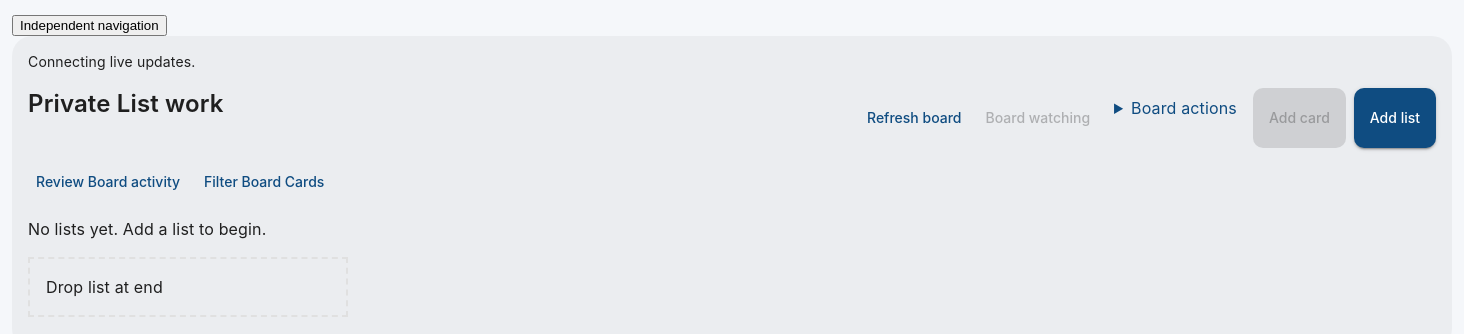
Test: PRD-07-VS-05 List creation identity › preserves independent navigation focus when pending List admission is refused
Click the button "Add list" at (1395, 118), box left=1354, top=88, right=1436, bottom=148
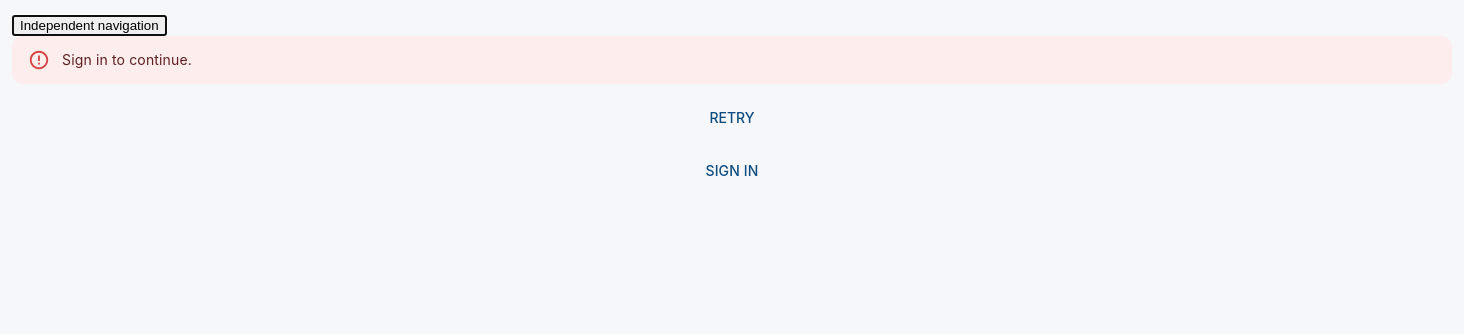
Now the heading "Private List work" is gone
